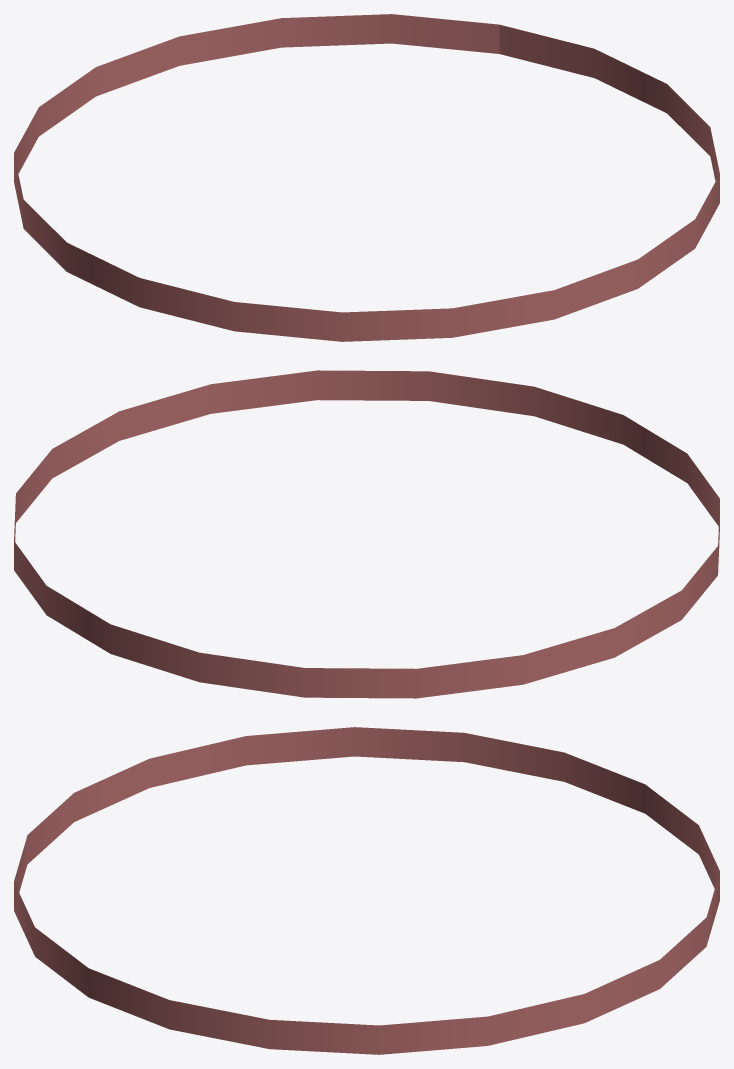
The model's file is fog_band.fbx.
3 renders of one model, top to bottom at view 1: azimuth 30°, elevation 25°; view 2: azimuth 150°, elevation 25°; view 3: azimuth 270°, elevation 25°, orthographic.
Parts seen in each view (by area): view 1: fog_band; view 2: fog_band; view 3: fog_band.
Part boxes in pixels (x1,y1,x2,y2): fog_band: [14, 14, 719, 341]; fog_band: [14, 370, 719, 698]; fog_band: [14, 727, 719, 1054].
Bounding box in the file's own units: 5.28e+08 × 2.43e+07 × 5.28e+08.
